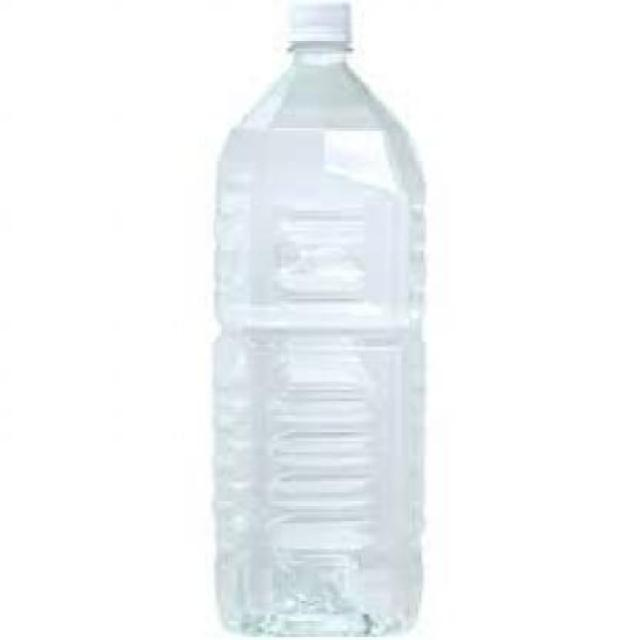PLASTIC: (216, 53, 425, 636), (292, 0, 348, 51)
